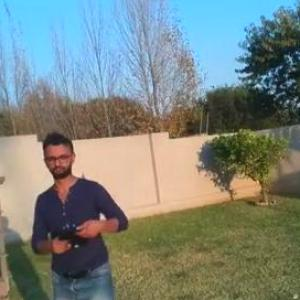follow: (24, 125, 132, 299)
